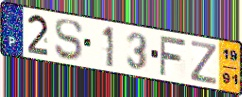1: (101, 25, 116, 69)
2: (27, 14, 50, 58)
3: (125, 31, 149, 71)
F: (158, 34, 188, 78)
S: (53, 18, 84, 62)
Z: (189, 39, 218, 86)
